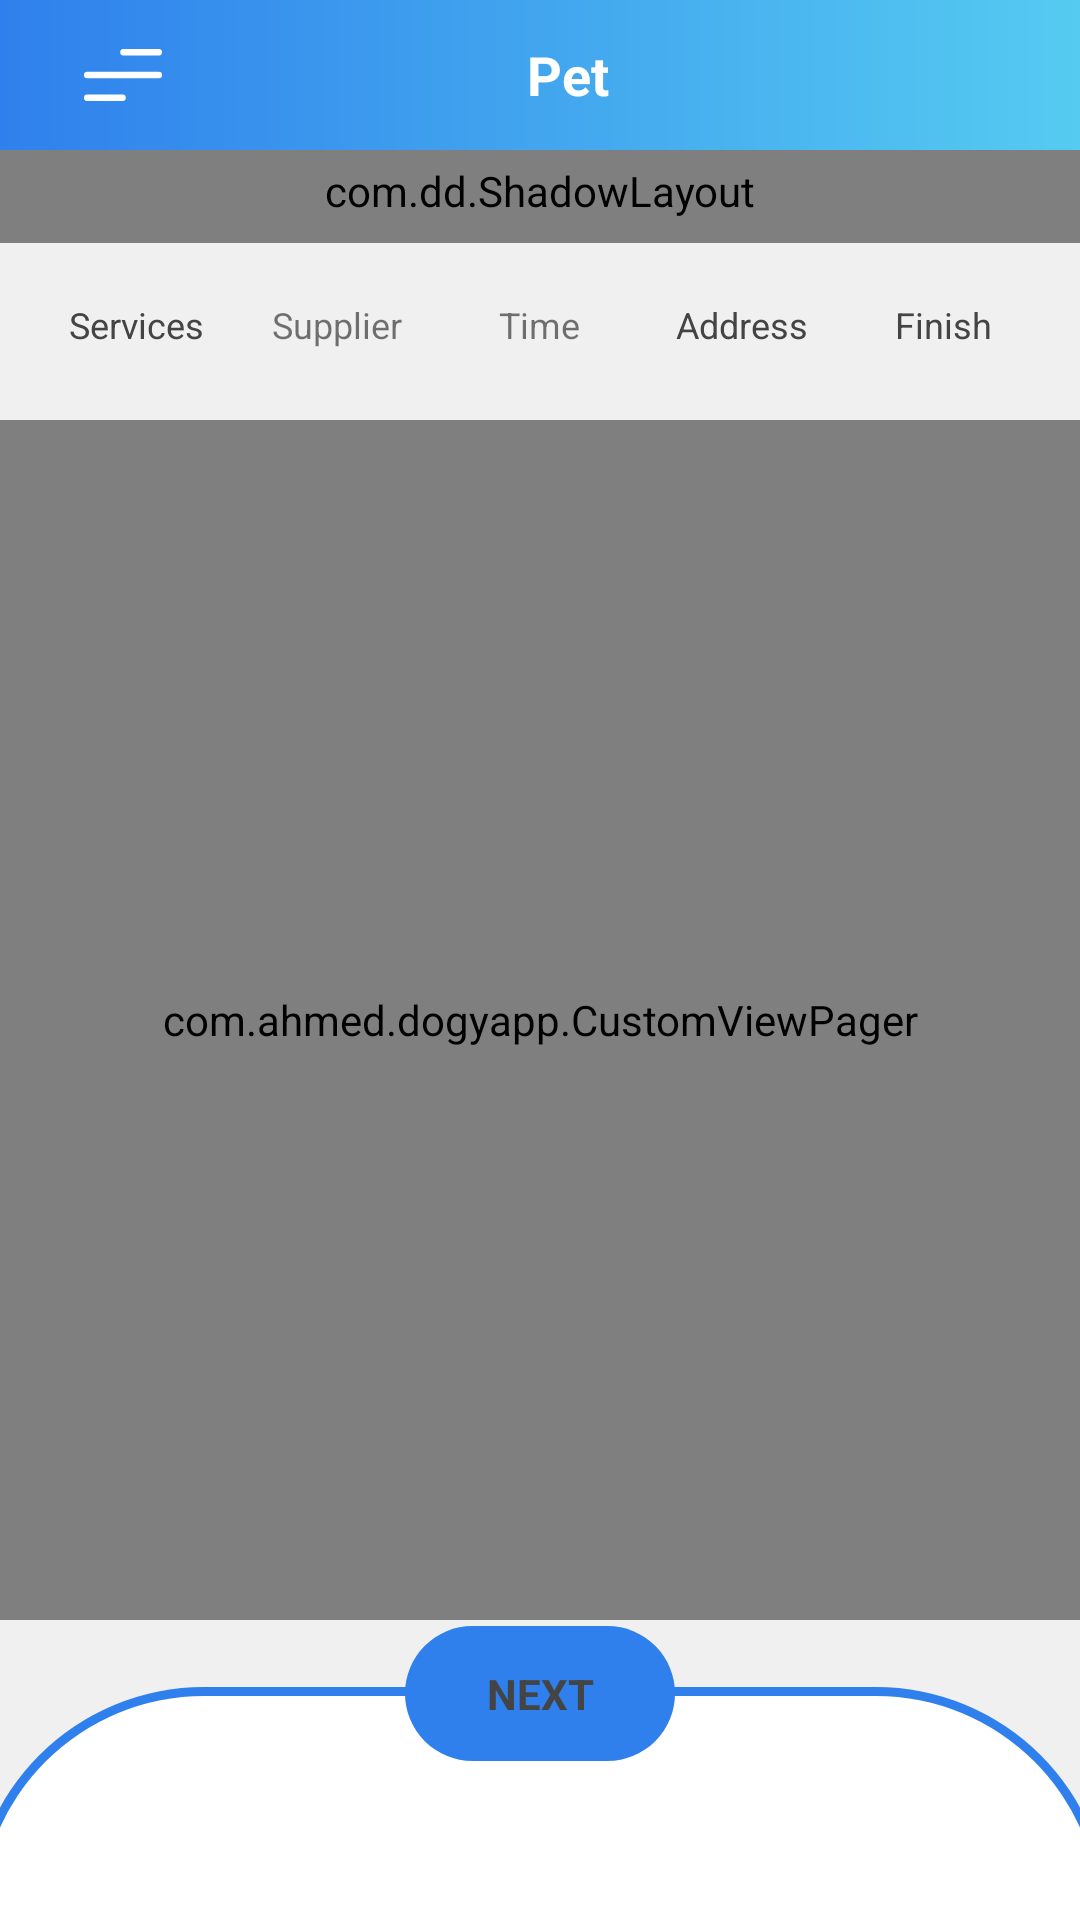

Screen size 1080px×1920px. Icon name, then its box in pixels as {"x1": x1, "y1": y1, "x2": x2, "y2": y2}:
menu: {"x1": 84, "y1": 49, "x2": 162, "y2": 101}
